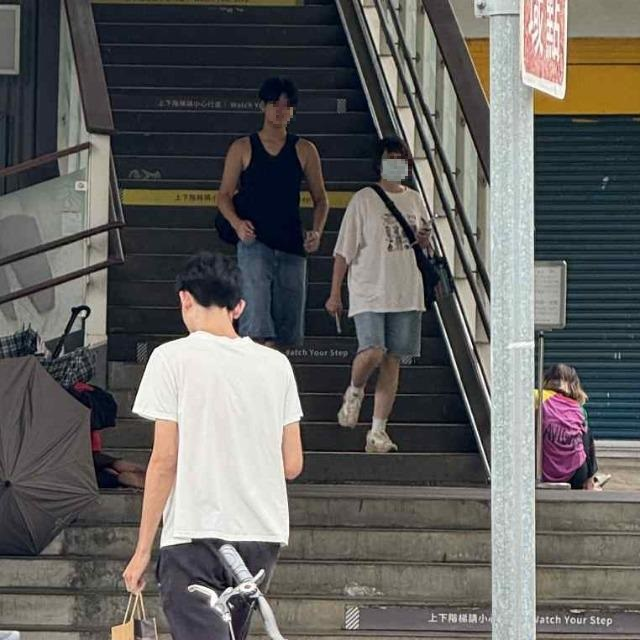NoVest: (147, 333, 303, 548), (226, 131, 326, 244)
